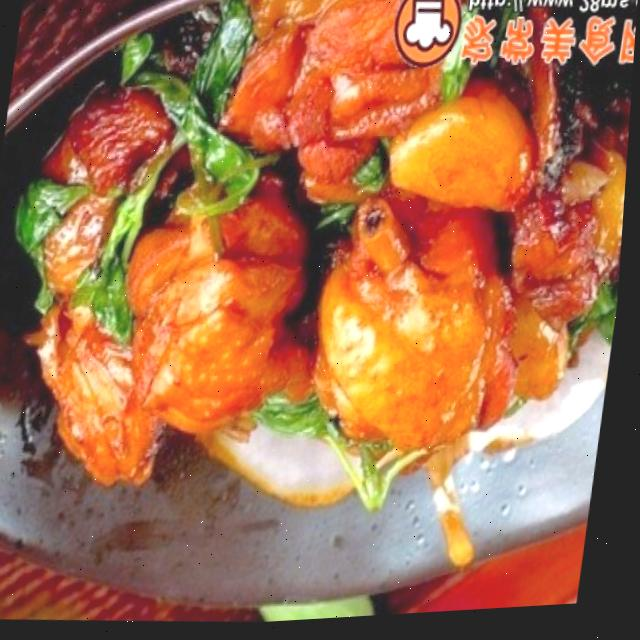鸡肉料理 含炸鸡: (2, 0, 639, 548)
